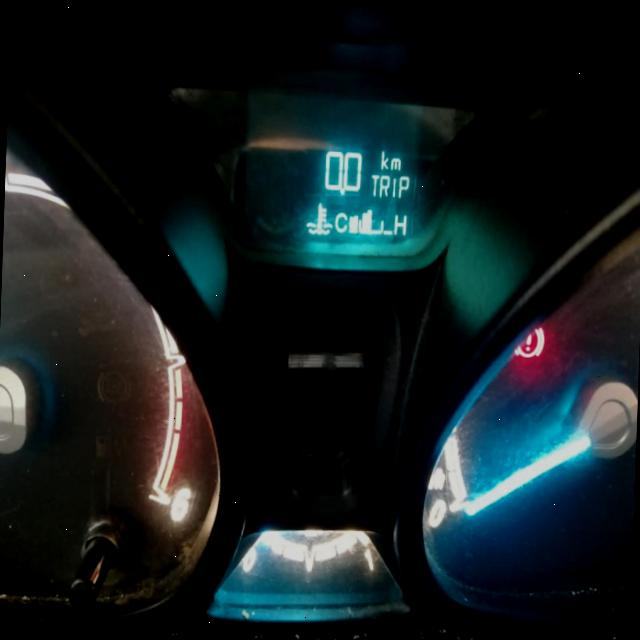odometer: (228, 131, 434, 254)
